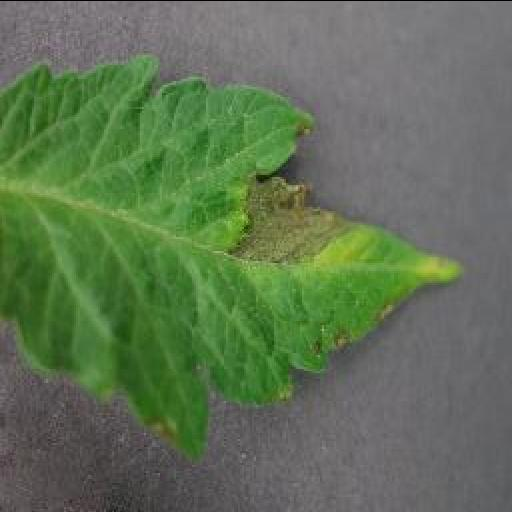disease_tomato: (0, 50, 460, 464)
